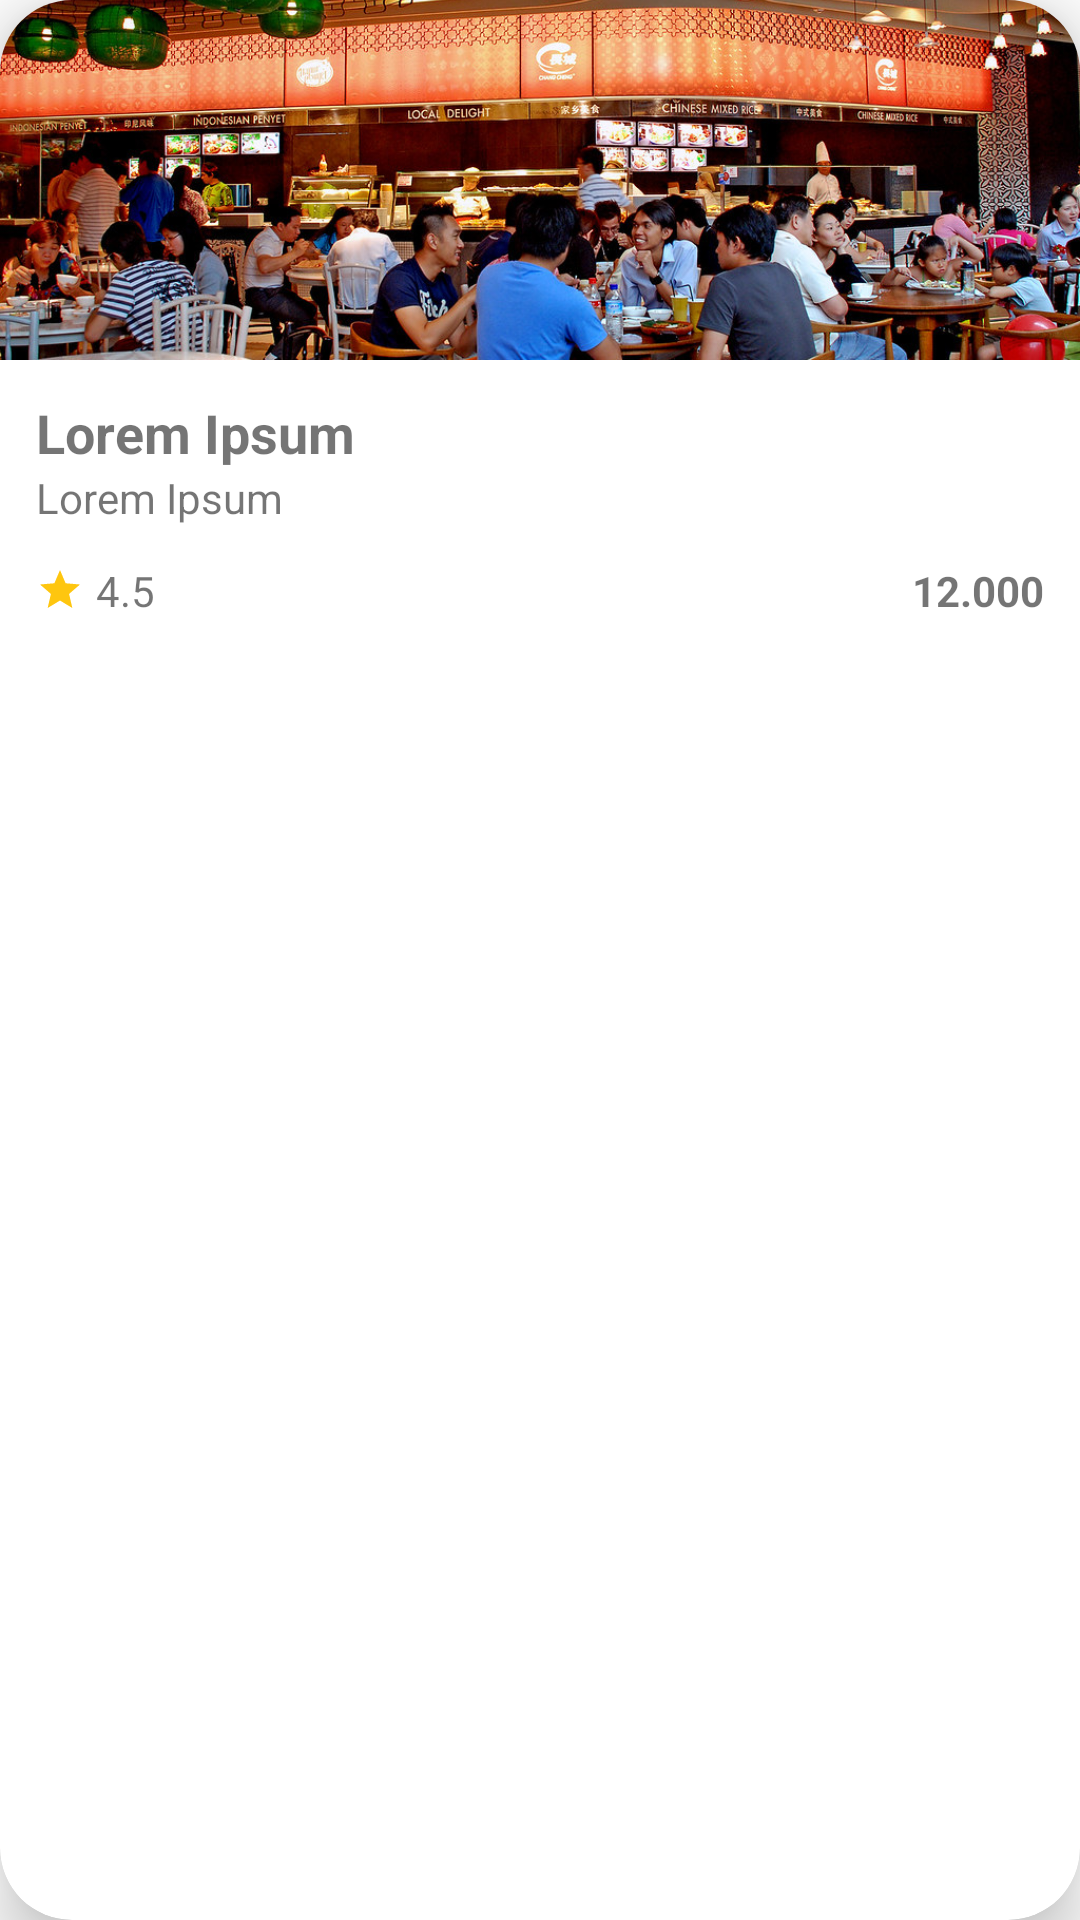

Where to tap for icons on this 1080*1920 app screen, as point (x, y):
star: point (60, 589)
